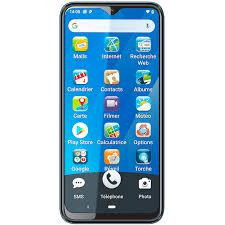Smartphone: (61, 0, 161, 220)
